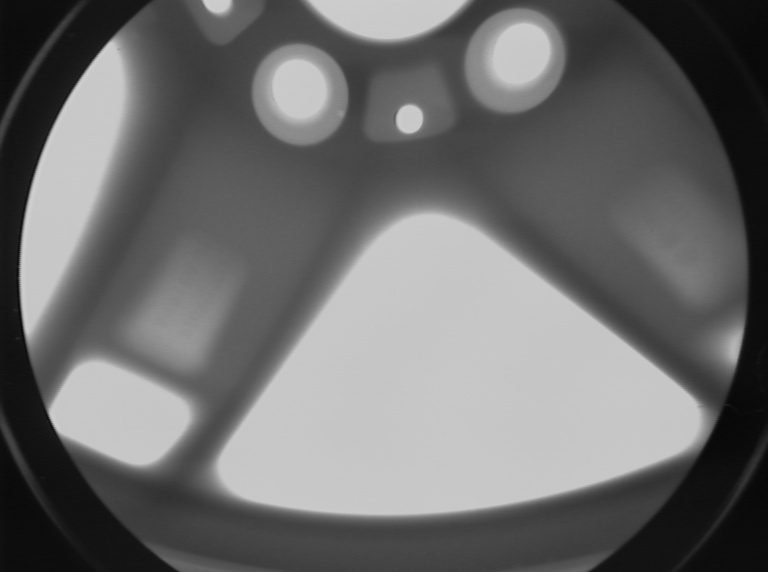defect: (125, 30, 140, 46)
